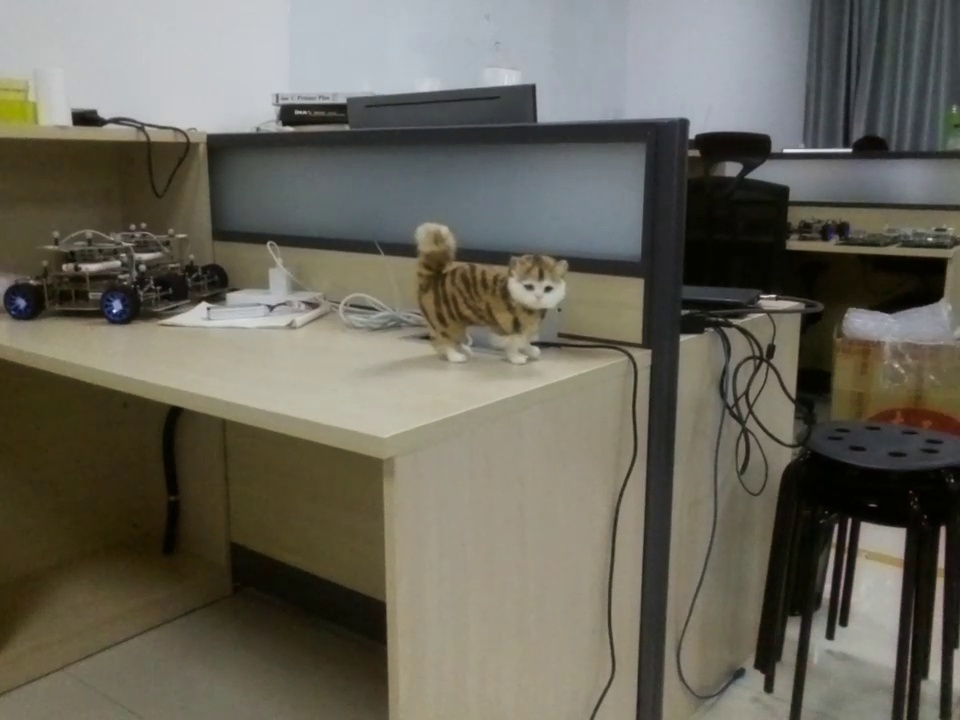cat: (408, 218, 579, 370)
